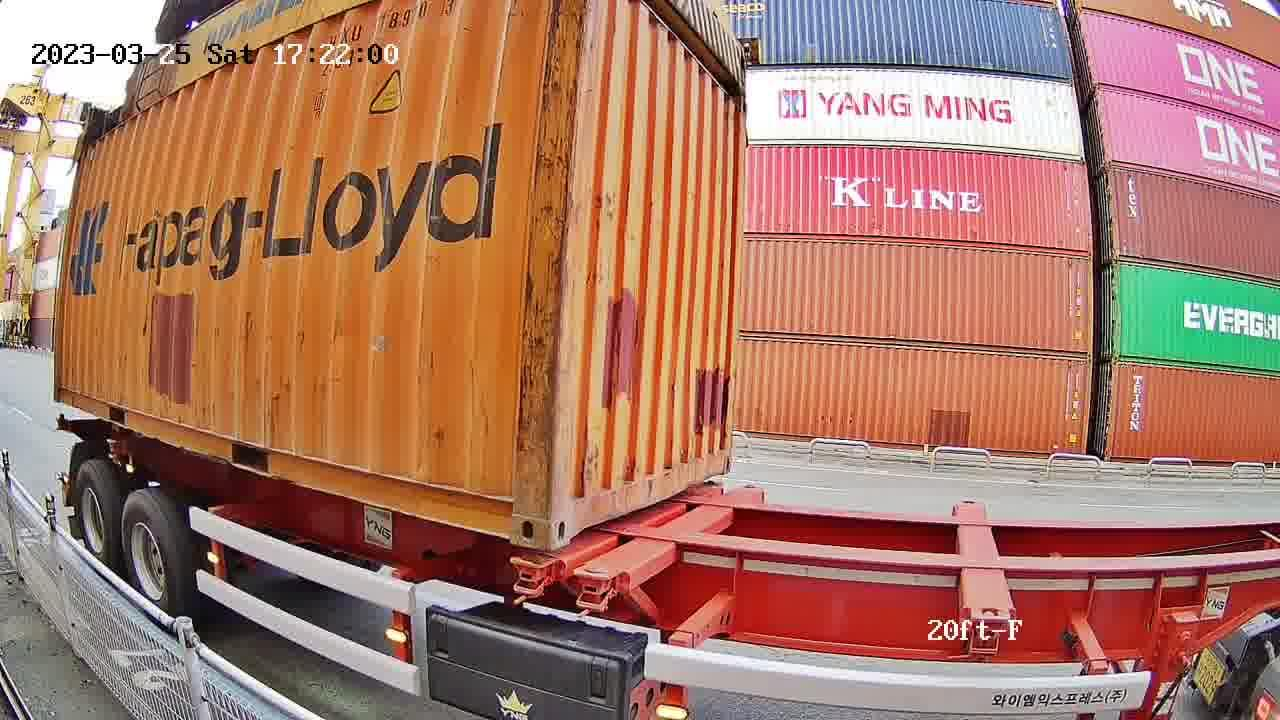Chassis: (574, 484, 766, 596)
Cone: (572, 566, 624, 619), (510, 552, 548, 603)
Hole_L: (549, 459, 604, 553)
Hole_R: (472, 466, 553, 552), (702, 432, 734, 480)
Tire: (123, 493, 183, 618), (74, 463, 117, 566)
